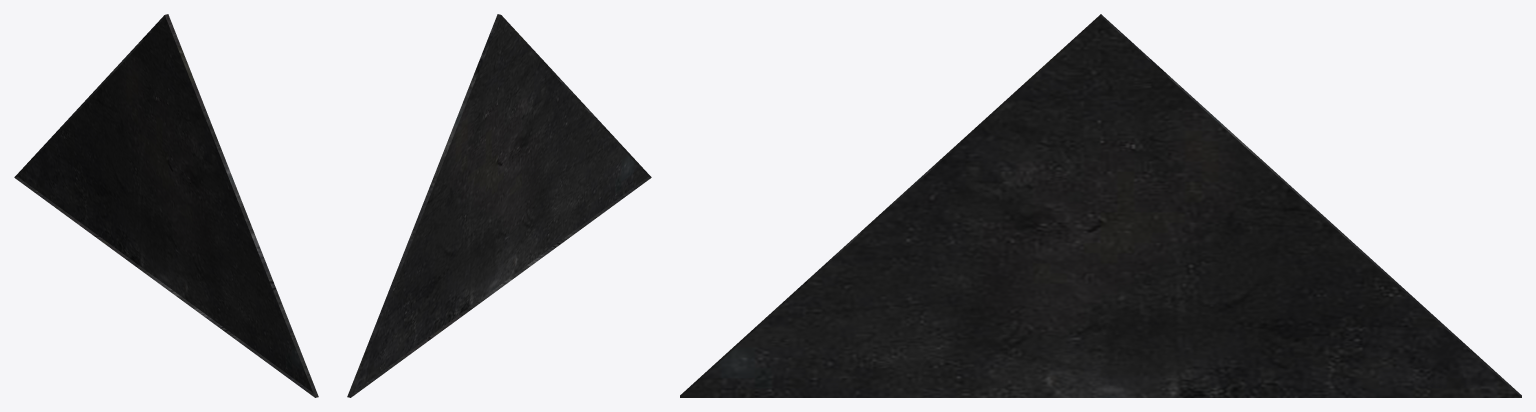
Rendered from SM_Horror_Attic_Wall.fbx.
3 views of the same model, side by side, from view 1: azimuth 30°, elevation 25°; view 2: azimuth 150°, elevation 25°; view 3: azimuth 270°, elevation 25° (orthographic). The views are drawn at different scales.
Visible parts, largest first — view 1: SM_Horror_Attic_Wall; view 2: SM_Horror_Attic_Wall; view 3: SM_Horror_Attic_Wall.
Part boxes in pixels (x1,y1,x2,y2): SM_Horror_Attic_Wall: [14, 14, 318, 397]; SM_Horror_Attic_Wall: [347, 14, 651, 397]; SM_Horror_Attic_Wall: [680, 14, 1521, 397].
Bounding box in the file's own units: 6.49 × 929 × 464.
